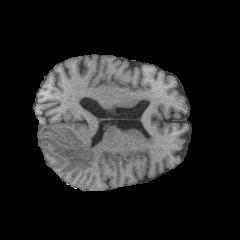glioma: (41, 128, 96, 172)
